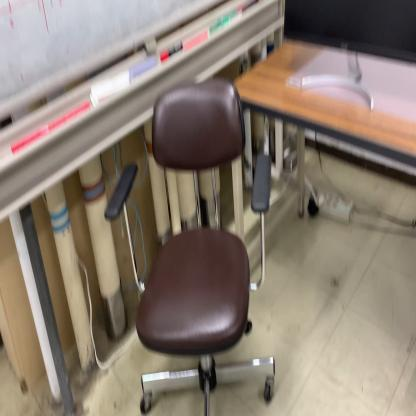chair: (103, 80, 277, 413)
